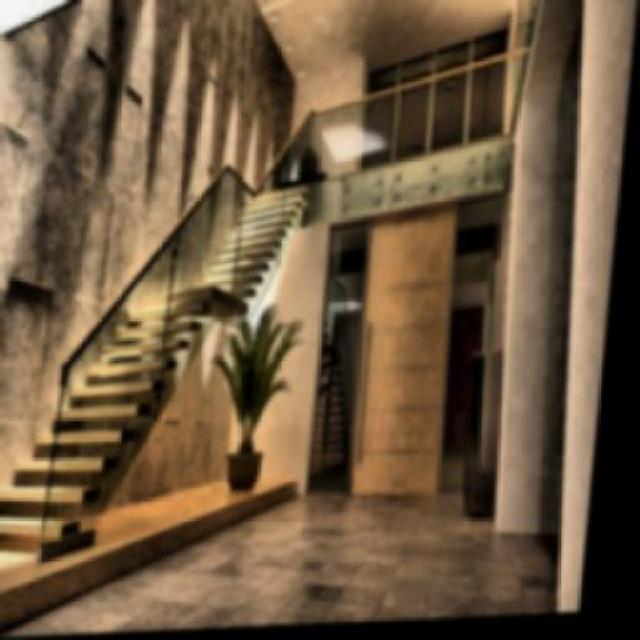stair: (0, 298, 215, 572)
